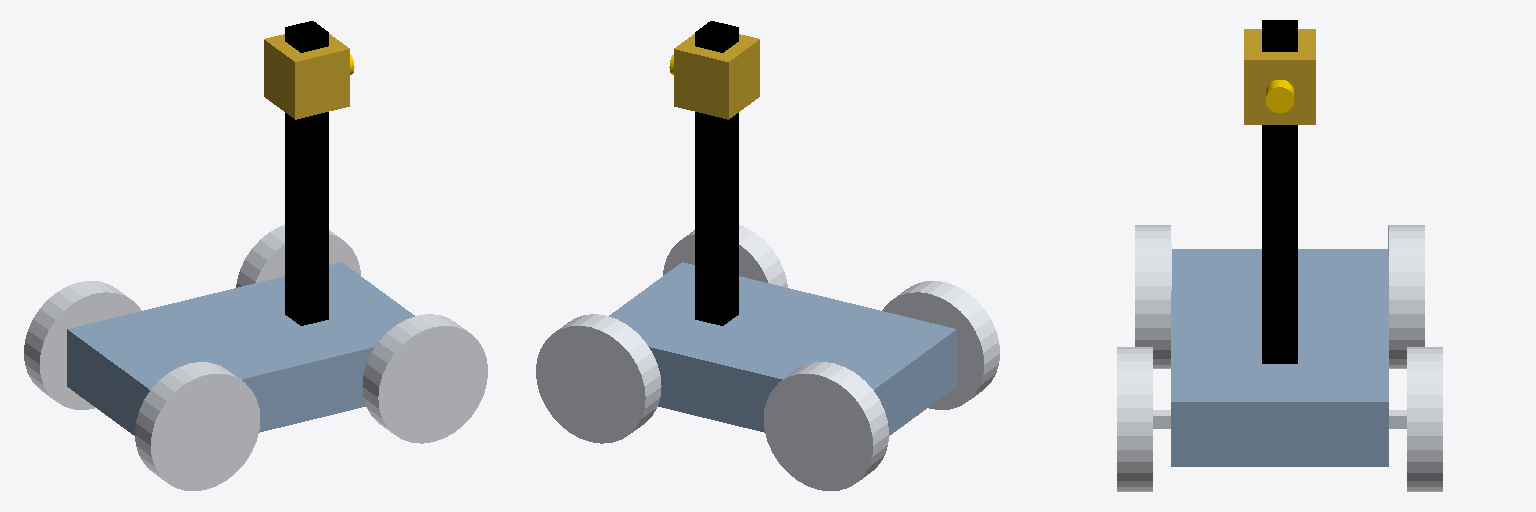
robot.urdf — simplecar:
<?xml version="1.0"?>
<robot name="simplecar">
    <!-- Colors -->
    <material name="black">
        <color rgba="0 0 0 1"/>
    </material>
    <material name="grey">
        <color rgba="0.91 0.925 0.945 1"/>
    </material>
    <material name="blue">
        <color rgba="0.6 0.7 0.8 1"/>
    </material>
    <material name="gold">
        <color rgba="0.82 0.68 0.21 1"/>
    </material>
    <material name="yellow">
        <color rgba="1 0.843 0 1"/>
    </material>

    <!-- Base Frame of Car -->
    <link name="base_link">
        <visual>
            <geometry>
                <box size="0.5 0.3 0.1"/>
            </geometry>
            <material name="blue"/>
        </visual>
        <inertial>
            <mass value="100"/>
            <inertia ixx="0.2" ixy="0" ixz="0" iyy="0.2" iyz="0.0" izz="0.2"/>
        </inertial>
    </link>    

    <!-- Left Front Wheel -->
    <link name="left_front_wheel">
        <visual>
            <geometry>
                <cylinder length="0.05" radius="0.1"/>
            </geometry>
            <origin rpy="1.57075 1.57075 0"/>
            <material name="grey"/>
        </visual>
        <collision>
             <geometry>
                <cylinder length="0.05" radius="0.1"/>
            </geometry>
            <origin rpy="1.57075 1.57075 0"/>
        </collision>
        <inertial>
            <origin rpy="1.57075 1.57075 0"/>
            <mass value="0.3"/>
            <inertia ixx="0.4" ixy="0" ixz="0" iyy="0.4" iyz="0.0" izz="0.2"/>
        </inertial>
    </link>
    <joint name="left_hinge_to_left_front_wheel" type="continuous">
        <parent link="left_hinge"/>
        <child link="left_front_wheel"/>
        <axis xyz="0 1 0"/>
        <origin xyz="0 0.2 0"/>
    </joint>

    <!-- Left Front Wheel - Hinge -->
    <link name="left_hinge">
        <visual>
            <geometry>
                <box size="0.20 0.02 0.02"/>
            </geometry>
            <origin xyz="0 0.1 0 " rpy="0 0 1.57075"/>
            <material name="grey"/>
        </visual>
        <inertial>
            <origin rpy="0 0 1.57075"/>
            <mass value="0.01"/>
            <inertia ixx="5E-6" ixy="0" ixz="0" iyy="5E-6" iyz="0" izz="5E-6"/>
        </inertial>
    </link>
    <joint name="base_to_left_hinge" type="revolute">
        <parent link="base_link"/>
        <child link="left_hinge"/>
        <axis xyz="0 0 1"/>
        <origin xyz="0.2 0.0 0"/>
        <limit effort="100" lower="-0.5" upper="0.5" velocity="100"/>
    </joint>

    <!-- Right Front Wheel -->
    <link name="right_front_wheel">
        <visual>
            <geometry>
                <cylinder length="0.05" radius="0.1"/>
            </geometry>
            <origin rpy="-1.57075 -1.57075 0"/>
            <material name="grey"/>
        </visual>
        <collision>
             <geometry>
                <cylinder length="0.05" radius="0.1"/>
            </geometry>
            <origin rpy="-1.57075 -1.57075 0"/>
        </collision>
        <inertial>
            <origin rpy="-1.57075 -1.57075 0"/>
            <mass value="0.3"/>
            <inertia ixx="0.4" ixy="0" ixz="0" iyy="0.4" iyz="0.0" izz="0.2"/>
        </inertial>
    </link>
    <joint name="right_hinge_to_right_front_wheel" type="continuous">
        <parent link="right_hinge"/>
        <child link="right_front_wheel"/>
        <axis xyz="0 1 0"/>
        <origin xyz="0 -0.2 0"/>
    </joint>

    <!-- Right Front Wheel - Hinge -->
    <link name="right_hinge">
        <visual>
            <geometry>
                <box size="0.20 0.02 0.02"/>
            </geometry>
            <origin xyz="0 -0.1 0 " rpy="0 0 -1.57075"/>
            <material name="grey"/>
        </visual>
        <inertial>
            <origin rpy="0 0 -1.57075"/>
            <mass value="0.01"/>
            <inertia ixx="5E-6" ixy="0" ixz="0" iyy="5E-6" iyz="0" izz="5E-6"/>
        </inertial>
    </link>
    <joint name="base_to_right_hinge" type="revolute">
        <parent link="base_link"/>
        <child link="right_hinge"/>
        <axis xyz="0 0 1"/>
        <origin xyz="0.2 0 0"/>
        <limit effort="100" lower="-0.5" upper="0.5" velocity="100"/>
    </joint>

    <!-- Left Back Wheel -->
    <link name="left_back_wheel">
        <visual>
            <geometry>
                <cylinder length="0.05" radius="0.1"/>
            </geometry>
            <origin rpy="1.57075 1.57075 0"/>
            <material name="grey"/>
        </visual>
        <collision>
             <geometry>
                <cylinder length="0.05" radius="0.1"/>
            </geometry>
            <origin rpy="1.57075 1.57075 0"/>
        </collision>
        <inertial>
            <origin rpy="1.57075 1.57075 0"/>
            <mass value="0.3"/>
            <inertia ixx="0.4" ixy="0" ixz="0" iyy="0.4" iyz="0.0" izz="0.2"/>
        </inertial>
    </link>
    <joint name="base_to_left_back_wheel" type="continuous">
        <parent link="base_link"/>
        <child link="left_back_wheel"/>
        <axis xyz="0 1 0"/>
        <origin xyz="-0.2 0.175 0"/>
    </joint>

    <!-- Right Back Wheel -->
    <link name="right_back_wheel">
        <visual>
            <geometry>
                <cylinder length="0.05" radius="0.1"/>
            </geometry>
            <origin rpy="-1.57075 -1.57075 0"/>
            <material name="grey"/>
        </visual>
        <collision>
             <geometry>
                <cylinder length="0.05" radius="0.1"/>
            </geometry>
            <origin rpy="-1.57075 -1.57075 0"/>
        </collision>
        <inertial>
            <origin rpy="-1.57075 -1.57075 0"/>
            <mass value="0.3"/>
            <inertia ixx="0.4" ixy="0" ixz="0" iyy="0.4" iyz="0.0" izz="0.2"/>
        </inertial>
    </link>
    <joint name="base_to_right_back_wheel" type="continuous">
        <parent link="base_link"/>
        <child link="right_back_wheel"/>
        <axis xyz="0 1 0"/>
        <origin xyz="-0.2 -0.175 0"/>
    </joint>

    <!-- Camera Rod of Car -->
    <link name="camera_rod_link">
        <visual>
            <geometry>
                <box size="0.05 0.05 0.5"/>
            </geometry>
            <material name="black"/>
        </visual>
        <collision>
            <geometry>
                <box size="0.05 0.05 0.5"/>
            </geometry>
        </collision>
    </link>
    <joint name="camera_rod_joint" type="fixed">
        <parent link="base_link"/>
        <child link="camera_rod_link"/>
        <axis xyz="0 0 1"/>
        <origin xyz="0.1 0 0.3"/>
    </joint>

    <!-- Camera Mount of Car -->
    <link name="camera_mount_link">
        <visual>
            <geometry>
                <box size="0.1 0.1 0.1"/>
            </geometry>
            <material name="gold"/>
        </visual>
        <collision>
            <geometry>
                <box size="0.1 0.1 0.1"/>
            </geometry>
        </collision>
    </link>
    <joint name="camera_mount_joint" type="prismatic">
        <parent link="camera_rod_link"/>
        <child link="camera_mount_link"/>
        <axis xyz="0 0 1"/>
        <origin xyz="0 0 0"/>
        <limit lower="0.1" upper="0.25"/>
    </joint>

    <!-- Camera of Car -->
    <link name="camera_link">
        <visual>
            <geometry>
                <cylinder length="0.05" radius="0.02"/>
            </geometry>
            <material name="yellow"/>
            <origin rpy="0 -1.57075 0"/>
        </visual>
        <collision>
            <geometry>
                <cylinder length="0.07" radius="0.02"/>
            </geometry>
            <origin rpy="0 -1.57075 0"/>
        </collision>
    </link>
    <joint name="camera_joint" type="revolute">
        <parent link="camera_mount_link"/>
        <child link="camera_link"/>
        <axis xyz="0 1 0"/>
        <origin xyz="0.05 0 0"/>
        <limit lower="0" upper="1"/>
    </joint>
</robot>

--- What the picture shows (computed from the rendered views, not written in the file) ---
3 views of the same robot in one strip: view 1: azimuth 30°, elevation 25°; view 2: azimuth 150°, elevation 25°; view 3: azimuth 270°, elevation 25° (orthographic).
Model simplecar with 10 links and 9 joints (3 revolute, 4 continuous, 1 prismatic, 1 fixed), rooted at base_link, posed all joints at 0 but 1 set to mid-range because 0 is outside their limits (camera_mount_joint = 0.175).
Visible links, largest first — view 1: base_link, right_front_wheel, right_back_wheel, camera_rod_link, left_back_wheel, camera_mount_link, left_front_wheel; view 2: base_link, left_front_wheel, left_back_wheel, camera_rod_link, right_back_wheel, camera_mount_link, right_front_wheel; view 3: base_link, camera_rod_link, camera_mount_link, left_front_wheel, right_front_wheel, right_back_wheel, left_back_wheel, camera_link.
Link boxes in pixels (x1,y1,x2,y2): base_link: (67, 262, 414, 435); right_front_wheel: (362, 314, 487, 443); right_back_wheel: (135, 362, 259, 490); camera_rod_link: (285, 21, 328, 325); left_back_wheel: (24, 281, 141, 409); camera_mount_link: (264, 34, 349, 119); left_front_wheel: (236, 225, 360, 287); base_link: (609, 262, 956, 435); left_front_wheel: (536, 314, 661, 443); left_back_wheel: (764, 362, 888, 490); camera_rod_link: (695, 21, 738, 325); right_back_wheel: (882, 281, 999, 409); camera_mount_link: (674, 34, 759, 119); right_front_wheel: (663, 225, 787, 287); base_link: (1171, 249, 1388, 466); camera_rod_link: (1262, 20, 1297, 363); camera_mount_link: (1244, 29, 1315, 124); left_front_wheel: (1407, 347, 1442, 491); right_front_wheel: (1117, 347, 1152, 491); right_back_wheel: (1135, 225, 1171, 368); left_back_wheel: (1388, 225, 1424, 368); camera_link: (1266, 80, 1293, 112).
Size in the robot's own frame: 0.6 by 0.45 by 0.65 metres.
Geometry: primitives only (box / cylinder / sphere), no mesh files.